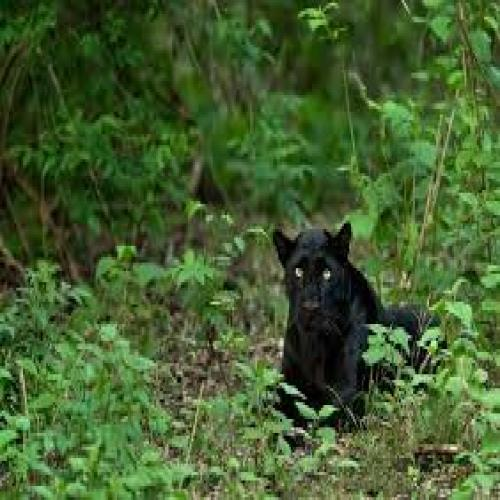panther-endangered: (267, 217, 448, 435)
